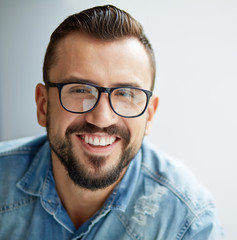young: (33, 13, 159, 200)
